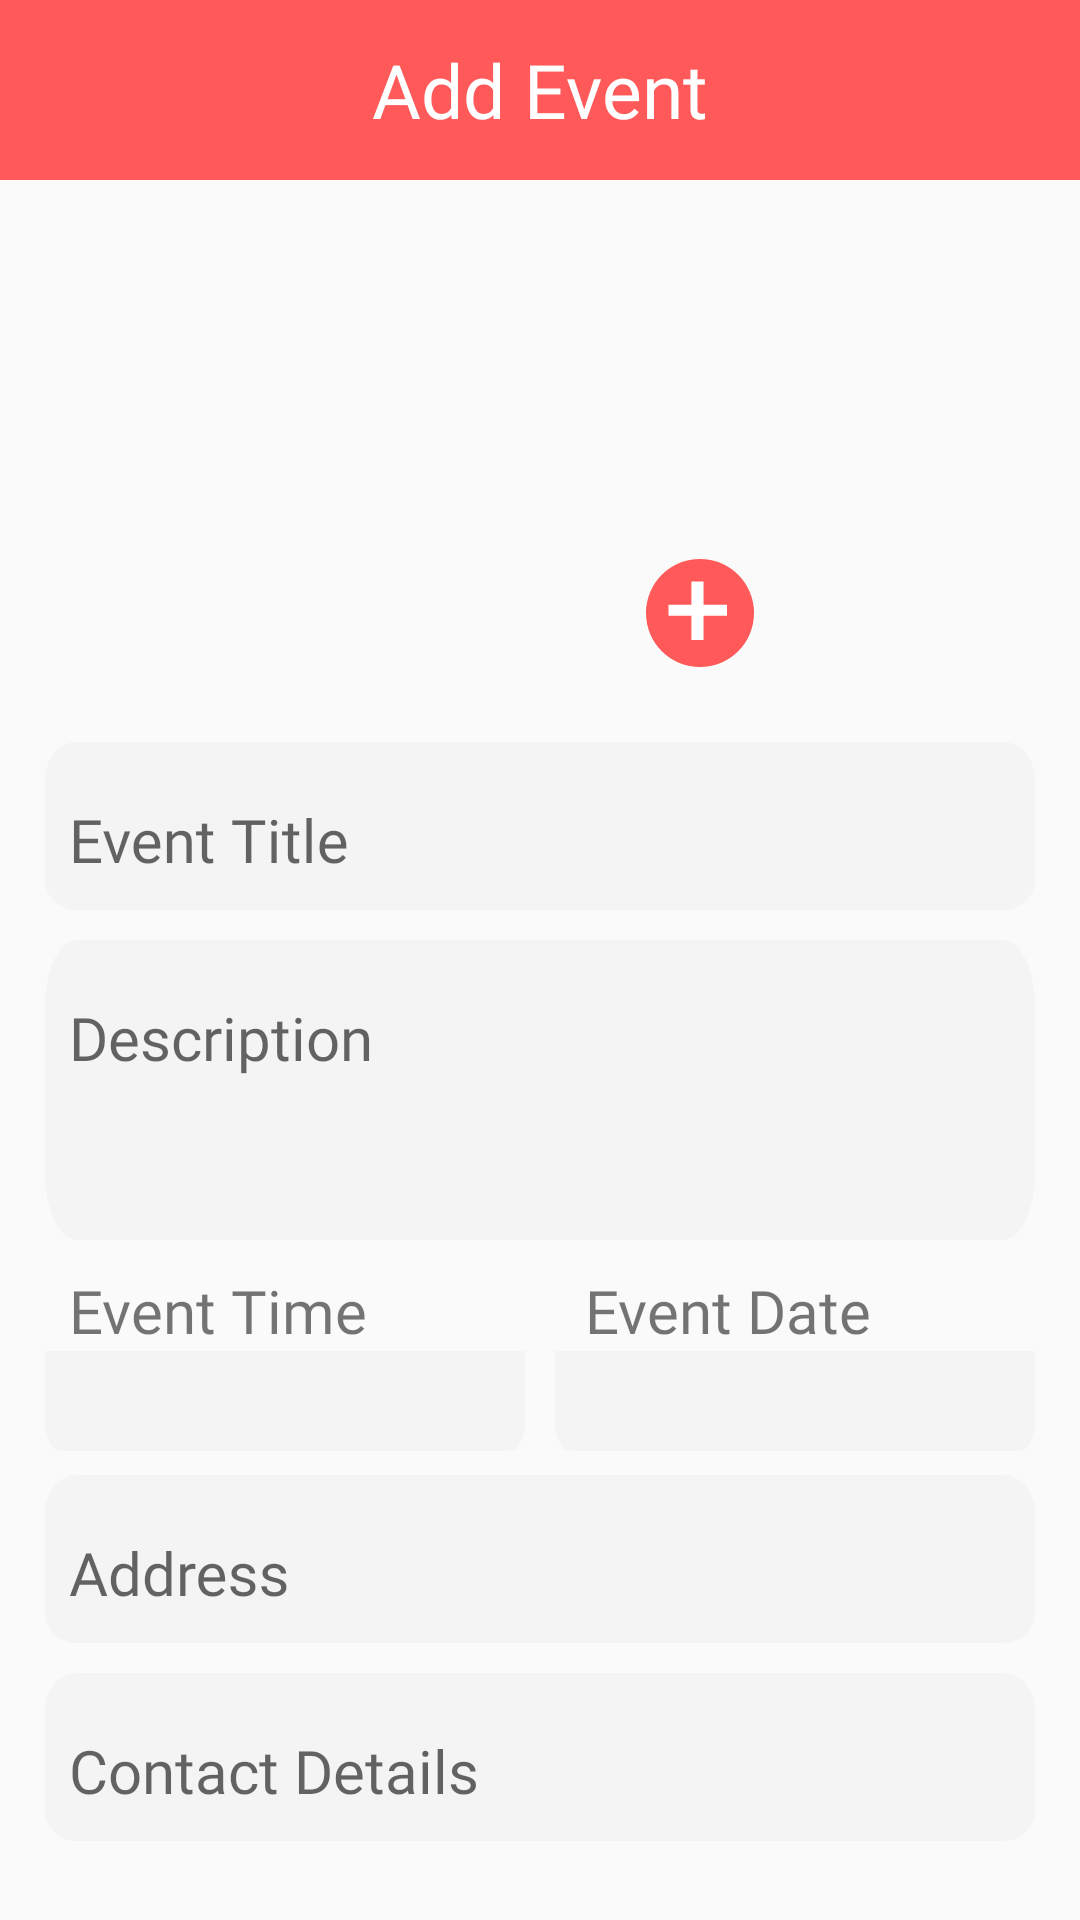

Screen size 1080 x 1920. Icon name, then its box in pixels as detection(x1, y1, x2, y2):
plus: detection(646, 559, 754, 667)
